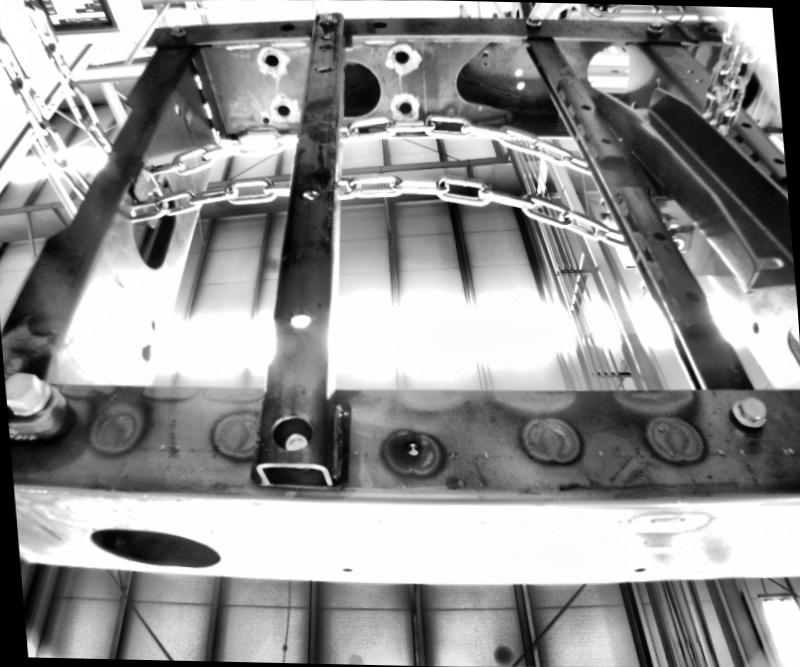bolt: (5, 365, 50, 426), (729, 396, 774, 428), (644, 18, 663, 34), (166, 23, 186, 38), (520, 14, 544, 26), (316, 12, 335, 24)
bracket: (127, 152, 174, 234)
hole: (78, 520, 234, 573), (578, 38, 635, 94), (272, 410, 312, 452), (285, 308, 311, 332), (399, 437, 423, 459), (299, 186, 320, 201), (394, 100, 412, 115), (262, 54, 280, 68), (650, 228, 666, 243), (274, 104, 290, 118), (684, 290, 699, 304), (313, 63, 332, 74), (748, 321, 762, 335), (768, 154, 784, 166), (278, 22, 298, 31), (393, 50, 408, 62), (632, 564, 646, 576), (340, 563, 355, 573), (580, 102, 592, 112), (370, 20, 386, 27), (512, 80, 524, 89), (149, 320, 157, 332), (600, 136, 611, 144), (682, 66, 694, 73), (320, 33, 330, 41), (514, 66, 522, 76), (740, 121, 751, 128), (692, 78, 703, 82), (262, 116, 269, 122)
welding: (190, 72, 204, 90), (200, 100, 212, 118), (209, 126, 220, 144)
